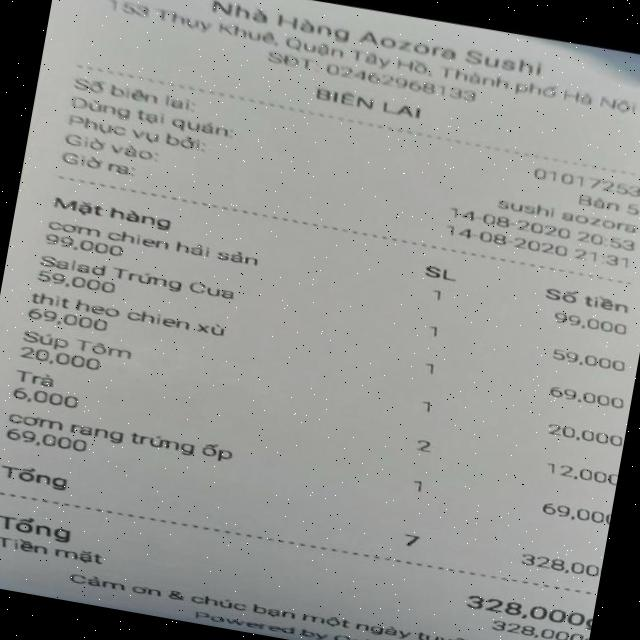Date: (438, 200, 572, 243)
Store_Name: (208, 0, 557, 85)
amount_number: (456, 586, 588, 632)
label_total: (0, 508, 79, 546)
